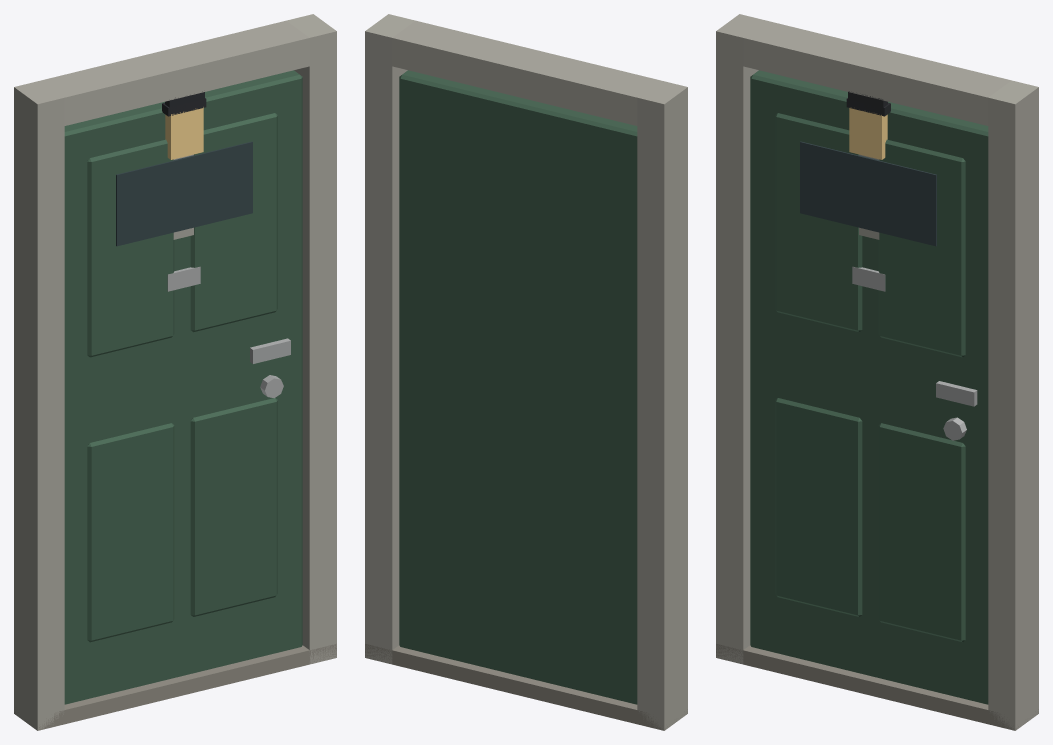
The model's file is house_door.fbx.
3 renders of one model, left to right at view 1: azimuth 30°, elevation 25°; view 2: azimuth 150°, elevation 25°; view 3: azimuth 330°, elevation 25°, orthographic.
Visible parts, largest first — view 1: house_door; view 2: house_door; view 3: house_door.
Boxes of the visible parts, x1,y1,x2,y2 form: house_door: (14, 14, 336, 730); house_door: (365, 14, 687, 730); house_door: (716, 14, 1038, 730).
Size of the model in its own units: 1.1 by 2.2 by 0.15.
